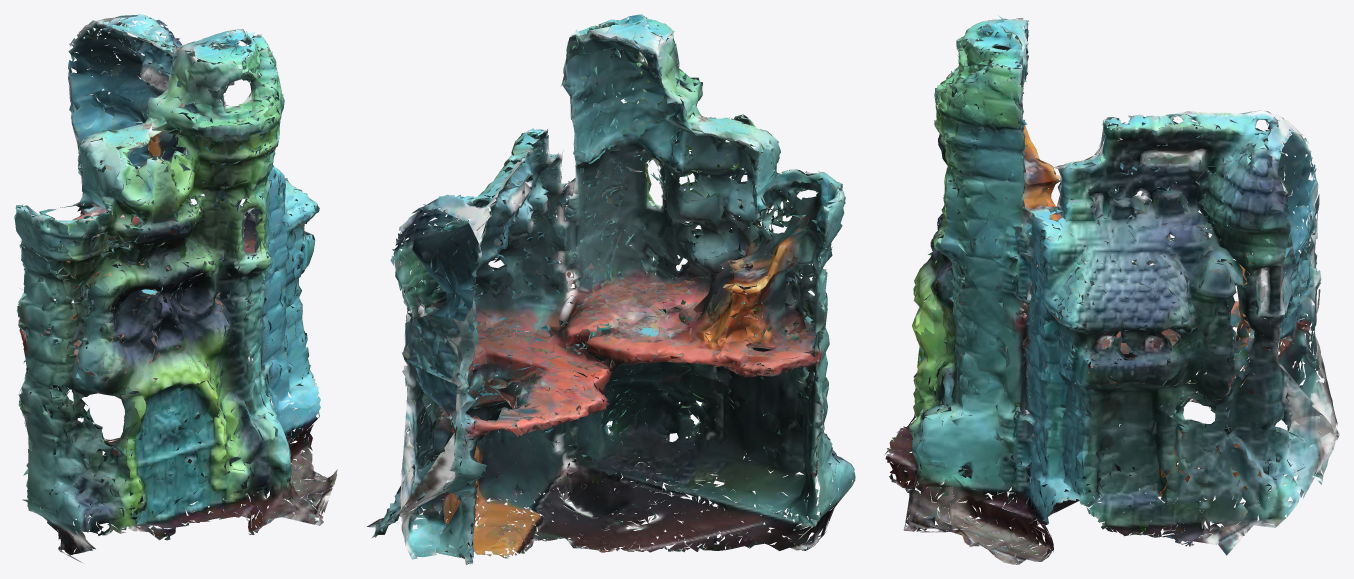
File: grayskull-c8x.glb
The picture shows the model from 3 angles, left to right: view 1: azimuth 30°, elevation 25°; view 2: azimuth 150°, elevation 25°; view 3: azimuth 270°, elevation 25°; orthographic projection. The views are drawn at different scales.
Parts seen in each view (by area): view 1: grayskull-c8x; view 2: grayskull-c8x; view 3: grayskull-c8x.
Part boxes in pixels (bbox=[...]): grayskull-c8x: bbox=[14, 14, 337, 562]; grayskull-c8x: bbox=[367, 14, 855, 564]; grayskull-c8x: bbox=[885, 14, 1339, 564].
Bounding box in the file's own units: 15.36 × 20.04 × 17.01.
Materials: 1 (1 with a texture image).
